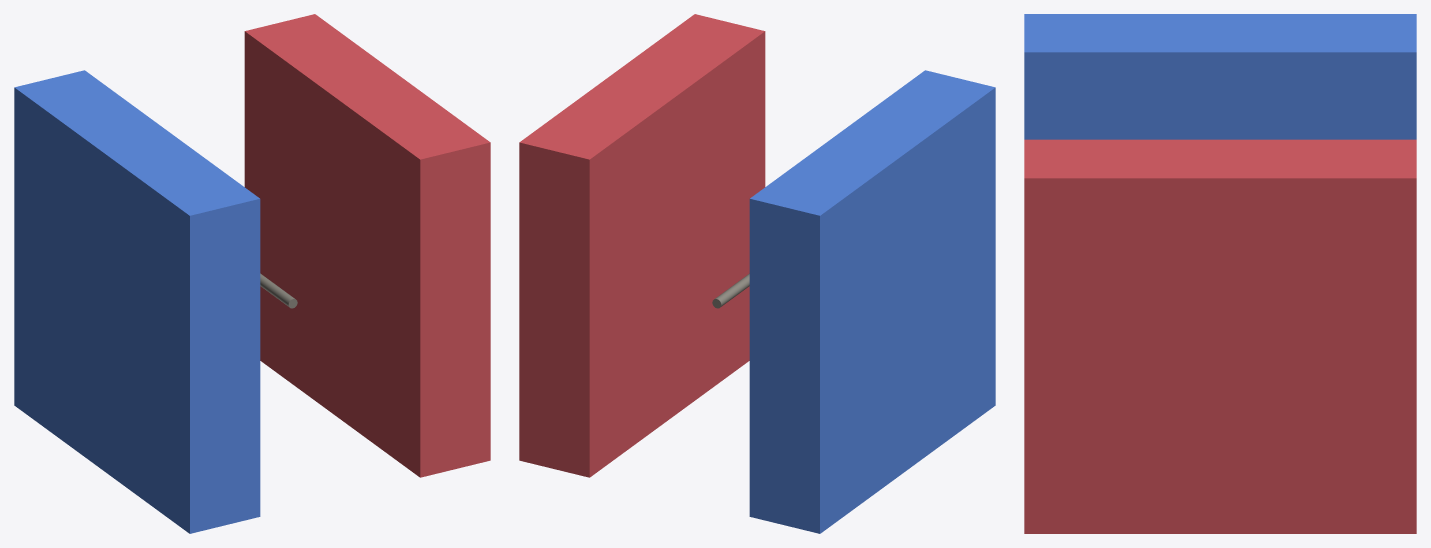
The model's file is dc_coil_motor.glb.
3 renders of one model, left to right at view 1: azimuth 30°, elevation 25°; view 2: azimuth 150°, elevation 25°; view 3: azimuth 270°, elevation 25°, orthographic. The views are drawn at different scales.
Parts seen in each view (by area): view 1: Magnet_South, Magnet_North; view 2: Magnet_South, Magnet_North; view 3: Magnet_North, Magnet_South.
Boxes of the visible parts, left/top/right/bottom form: Magnet_South: left=14, top=70, right=260, bottom=533; Magnet_North: left=244, top=14, right=490, bottom=477; Magnet_South: left=749, top=70, right=995, bottom=533; Magnet_North: left=519, top=14, right=765, bottom=477; Magnet_North: left=1024, top=139, right=1416, bottom=533; Magnet_South: left=1024, top=14, right=1416, bottom=139.
Bounding box in the file's own units: 1.88 × 1.9 × 1.9.
